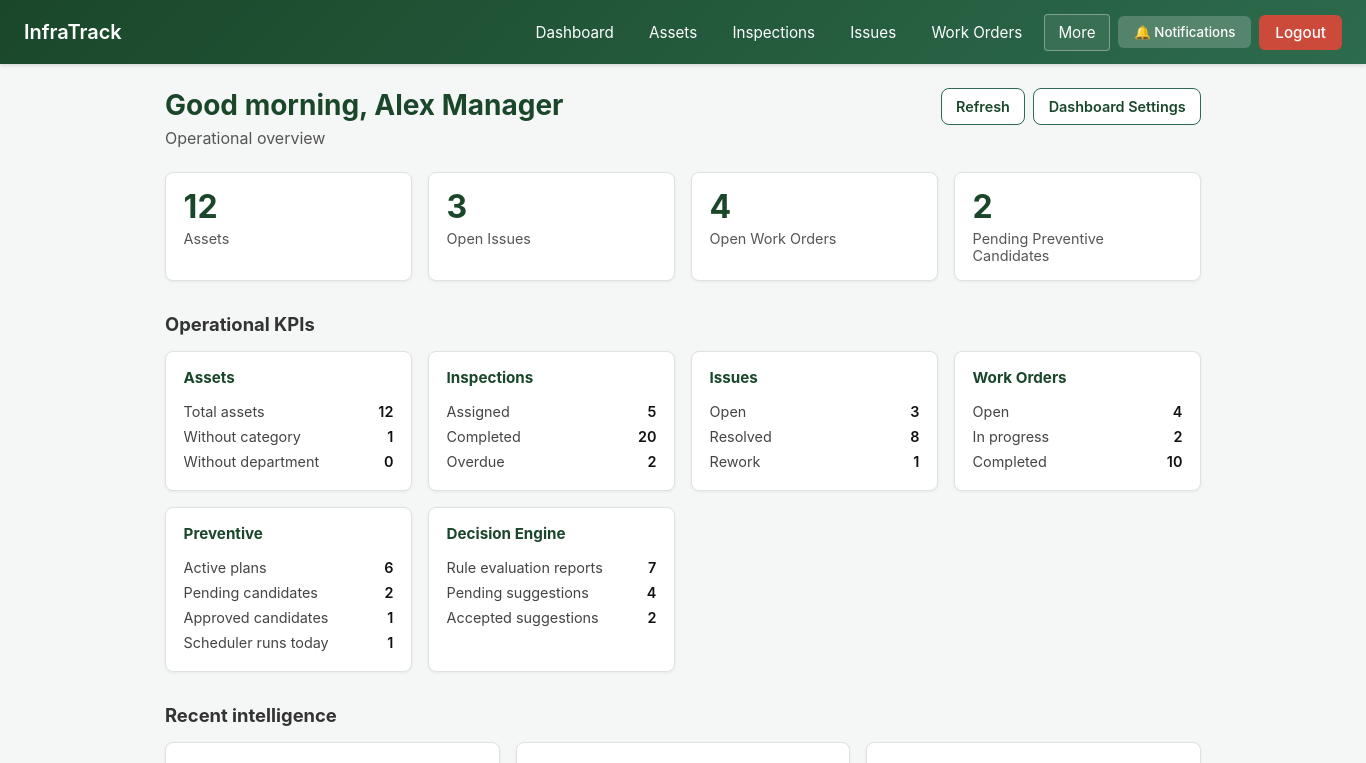
Test: DashboardPage › opens dashboard settings and saves preferences
Expected: the heading "Operational KPIs" is shown, [165,313,315,335]
What coordinates should you click on to do the following:
click the button "Dashboard Settings"
I would click on:
 (1117, 106)
Its box is [1033,88,1201,125].
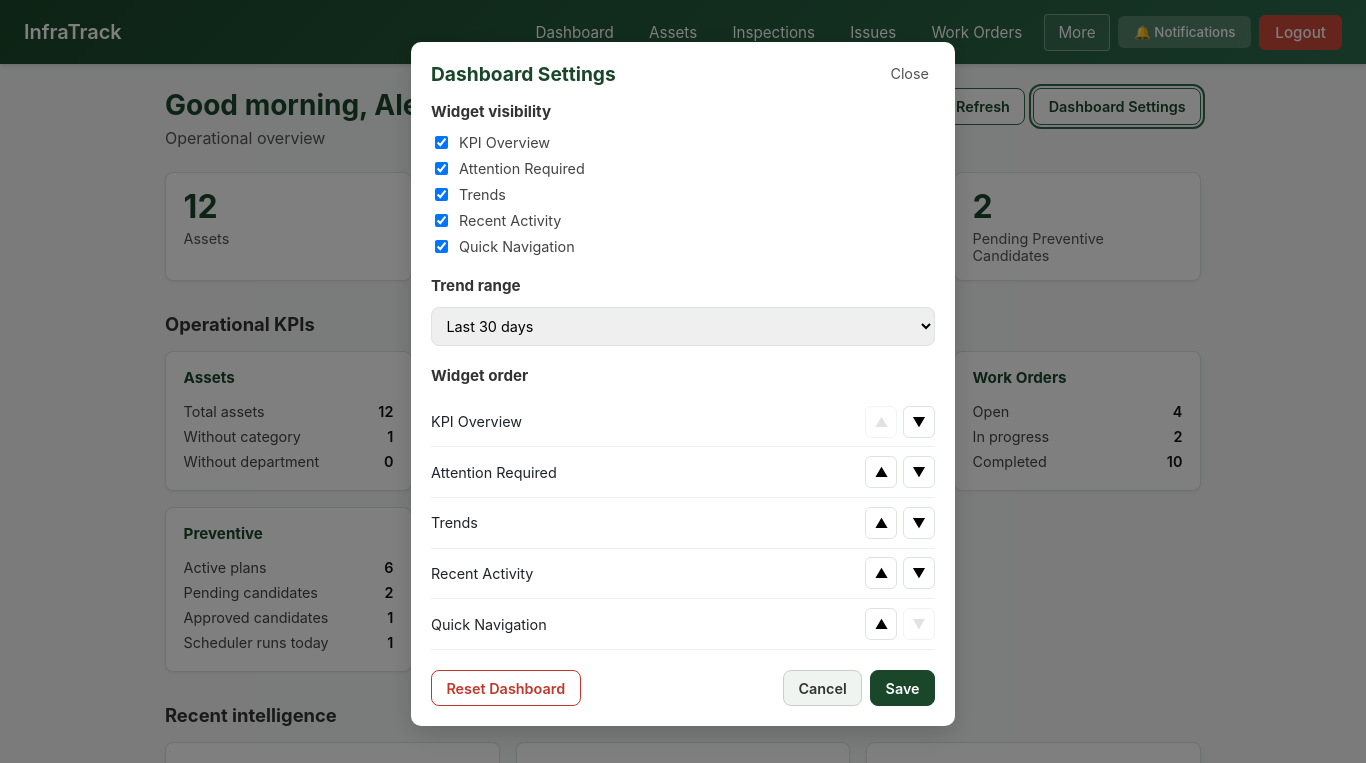
Expected: the dialog is shown, [411,42,955,726]
What coordinates should you click on to do the following:
click the checkbox labelled "Recent Activity"
I would click on:
 (442, 221)
Its box is [435,214,448,227].
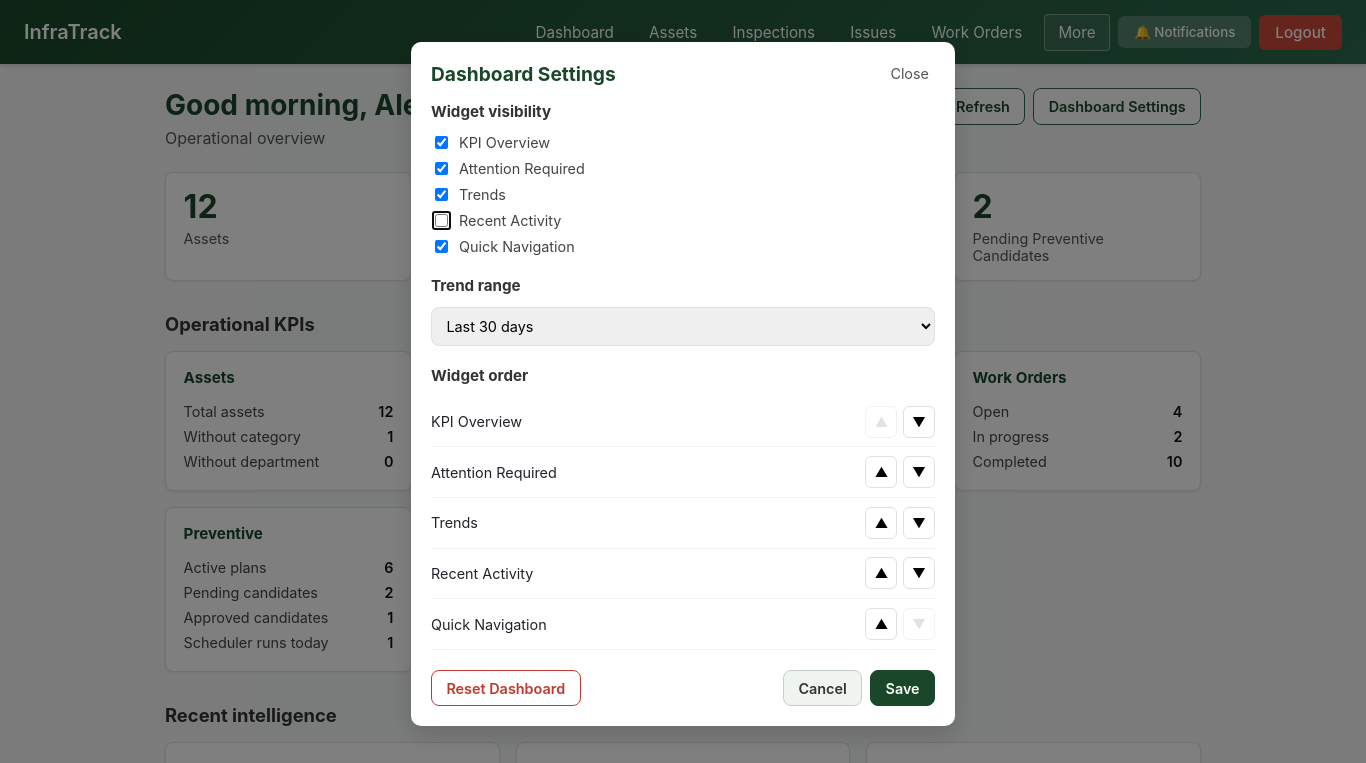
What coordinates should you click on to do the following:
click the button "Save"
I would click on:
 (903, 688)
Its box is [870,670,935,706].
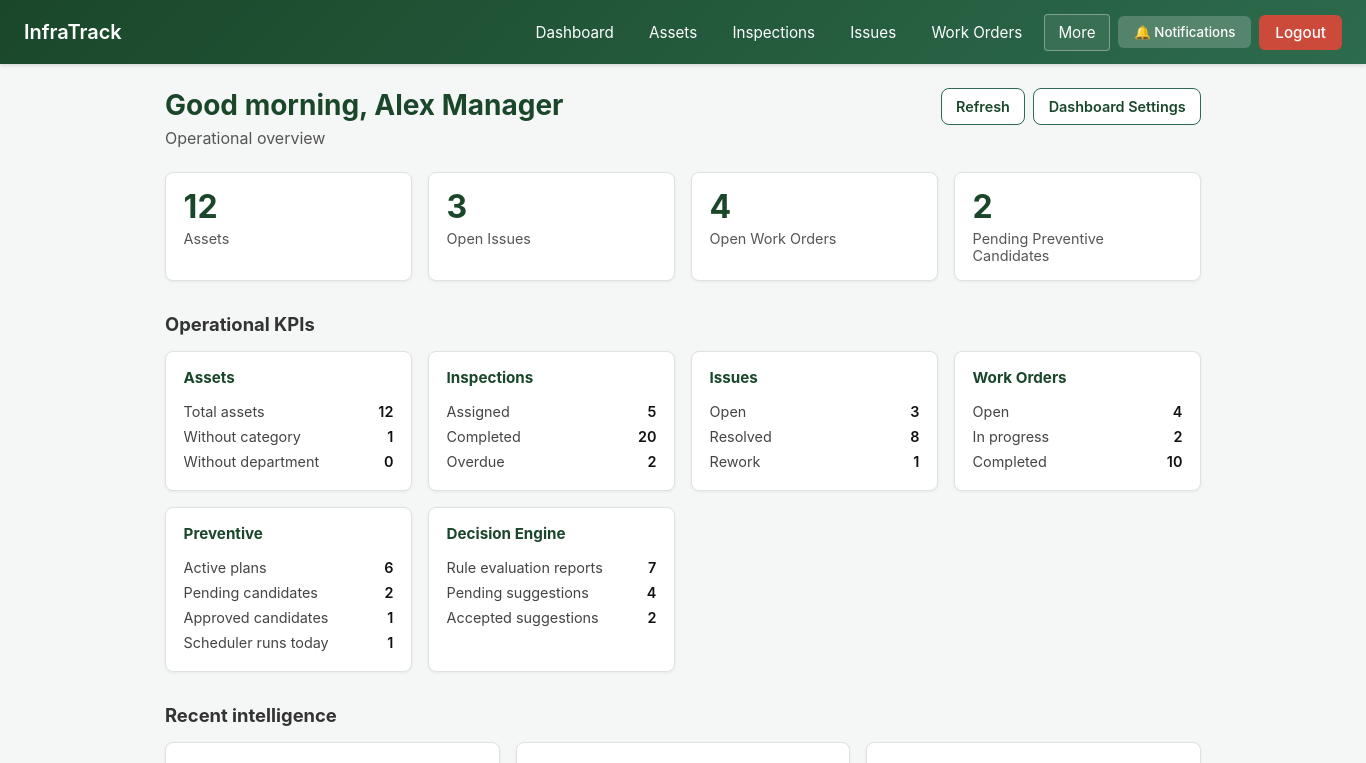
Expected: the text "Recent Activity" is gone
